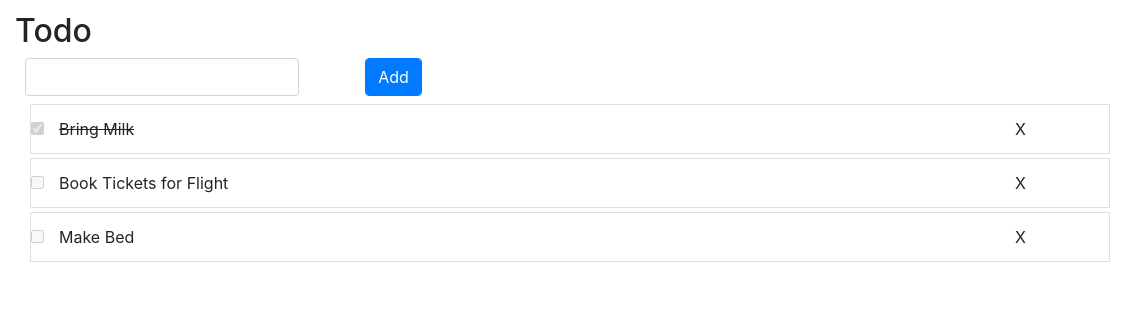
Test: First test › should delete a todo
Type "Make Tea" into the field with id "todoInput" at (162, 77), box left=25, top=58, right=299, bottom=96
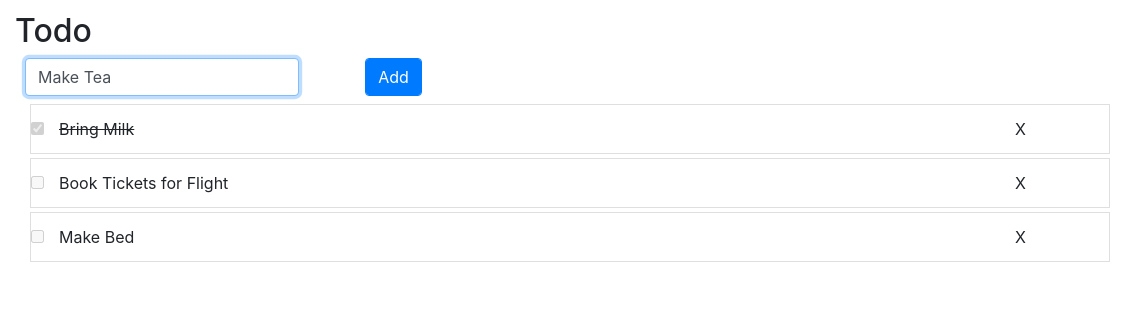
Click the button "Add" at (394, 77), box left=365, top=58, right=422, bottom=96
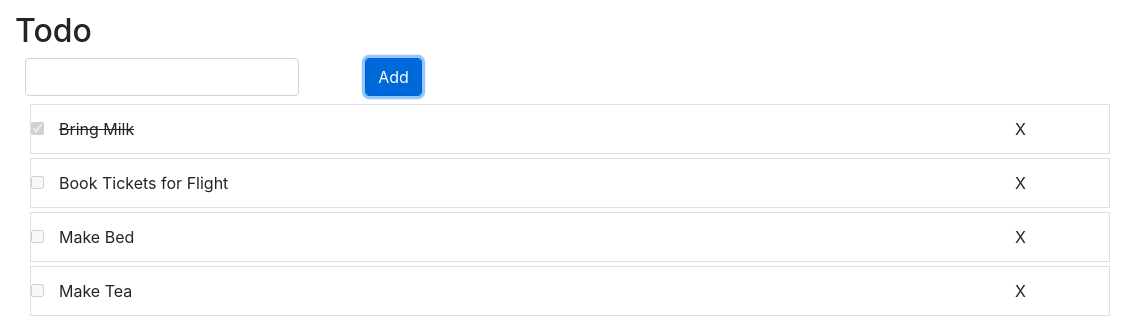
Check: the text "Make Tea" is shown, box left=59, top=281, right=132, bottom=301
Click the element with class "delete-todo" in the row of "Make Tea" at (1021, 291), box left=1015, top=279, right=1026, bottom=303
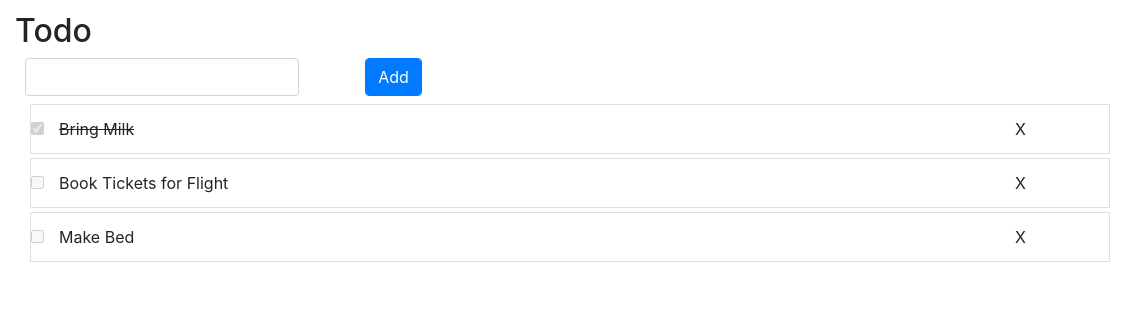
Check: the number of elements with class "delete-todo" is 3, box left=1015, top=117, right=1026, bottom=141; left=1015, top=171, right=1026, bottom=195; left=1015, top=225, right=1026, bottom=249
